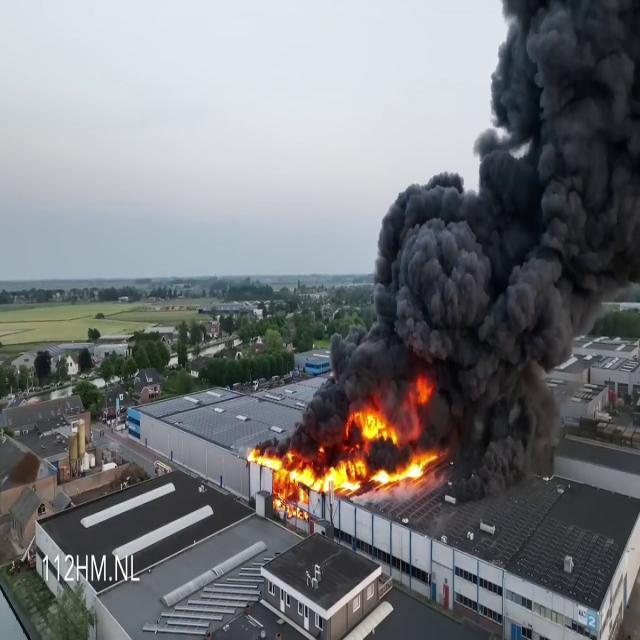Fire: (250, 406, 436, 510)
Smoke: (300, 1, 640, 442)
